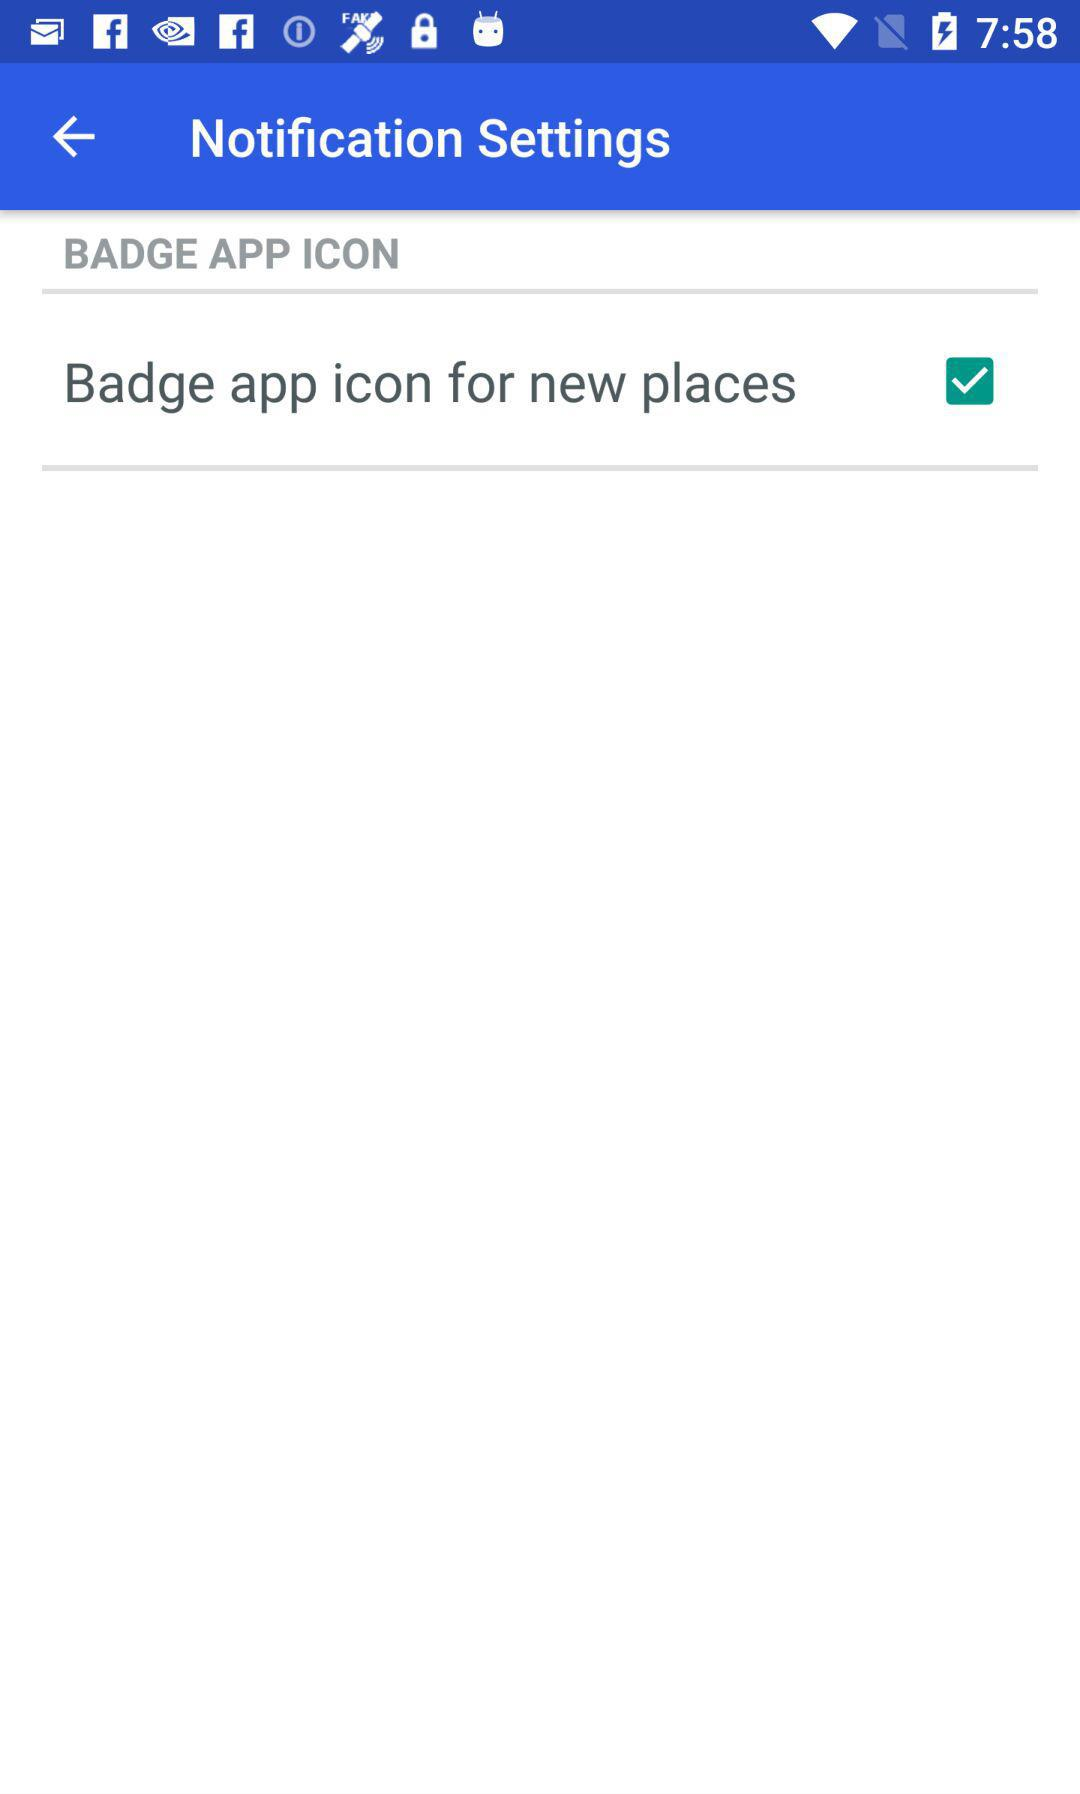CheckedTextView: (67, 358, 995, 415)
Icon: (51, 114, 97, 160)
Text: (67, 360, 796, 415), (192, 117, 671, 170), (67, 237, 400, 270)
UpperTaskBar: (1, 1, 1080, 64)
